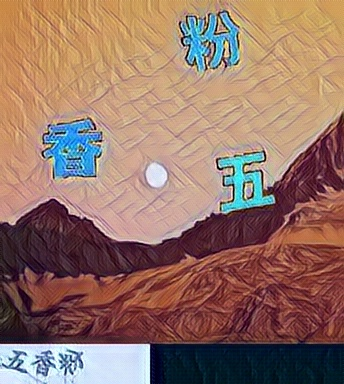B7DB: (177, 7, 242, 72)
CEE5: (212, 149, 277, 214)
CFE3: (40, 116, 105, 181)
